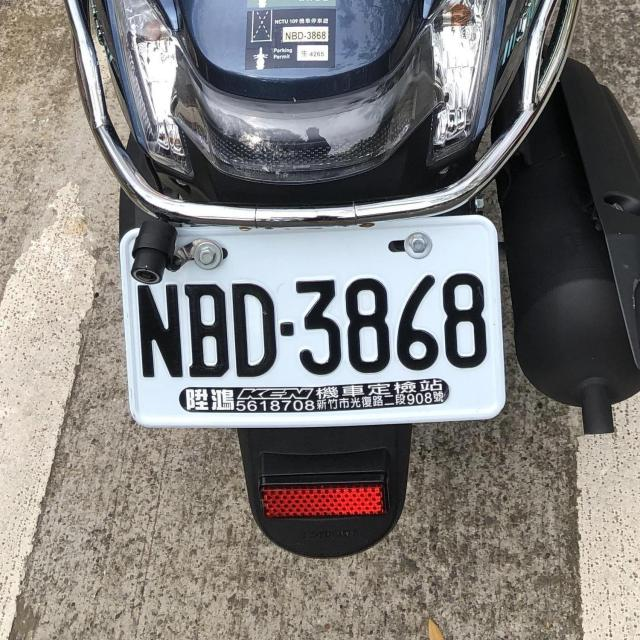W: (120, 216, 514, 416)
